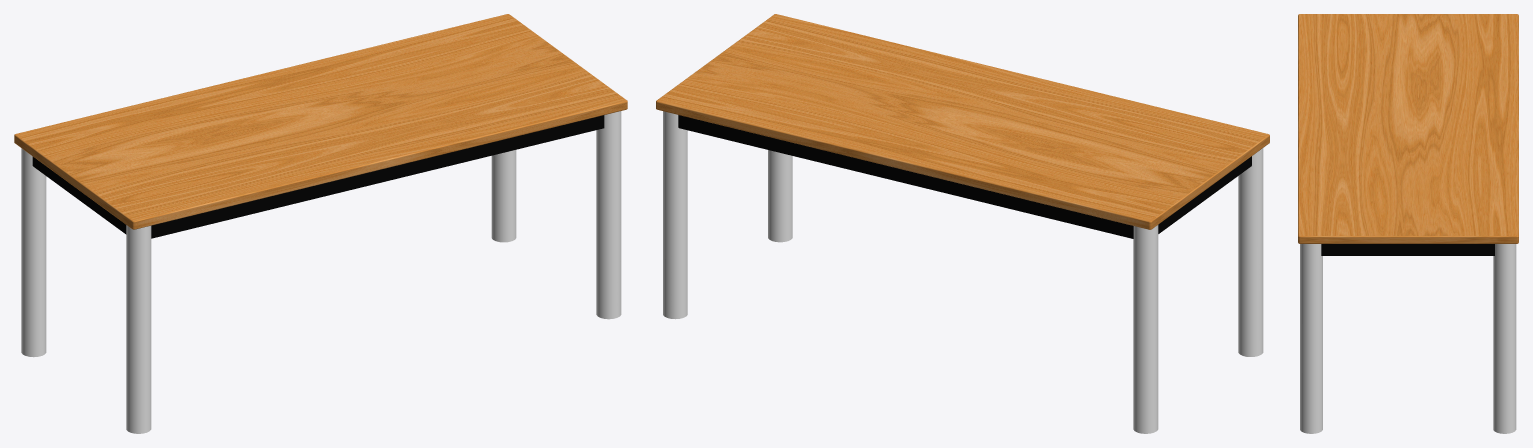
The model's file is 中厅桌子.fbx.
3 views of the same model, side by side, from view 1: azimuth 30°, elevation 25°; view 2: azimuth 150°, elevation 25°; view 3: azimuth 270°, elevation 25° (orthographic). The views are drawn at different scales.
Visible parts, largest first — view 1: 桌面, 框架, 桌腿003.001, 桌腿.001, 桌腿002.001, 桌腿001.001; view 2: 桌面, 框架, 桌腿002.001, 桌腿003.001, 桌腿001.001, 桌腿.001; view 3: 桌面, 桌腿001.001, 桌腿.001, 框架.
Boxes of the visible parts, x1,y1,x2,y2 form: 桌面: (14, 14, 627, 229); 框架: (32, 115, 604, 238); 桌腿003.001: (126, 225, 151, 433); 桌腿.001: (596, 111, 621, 319); 桌腿002.001: (21, 148, 46, 357); 桌腿001.001: (491, 150, 516, 242); 桌面: (656, 14, 1269, 229); 框架: (678, 115, 1251, 238); 桌腿002.001: (1133, 225, 1158, 433); 桌腿003.001: (1238, 148, 1263, 356); 桌腿001.001: (663, 111, 687, 319); 桌腿.001: (768, 150, 792, 242); 桌面: (1298, 14, 1518, 243); 桌腿001.001: (1493, 244, 1516, 433); 桌腿.001: (1300, 244, 1322, 433); 框架: (1321, 244, 1494, 255).
Bounding box in the file's own units: 7113 × 2953 × 2980.
